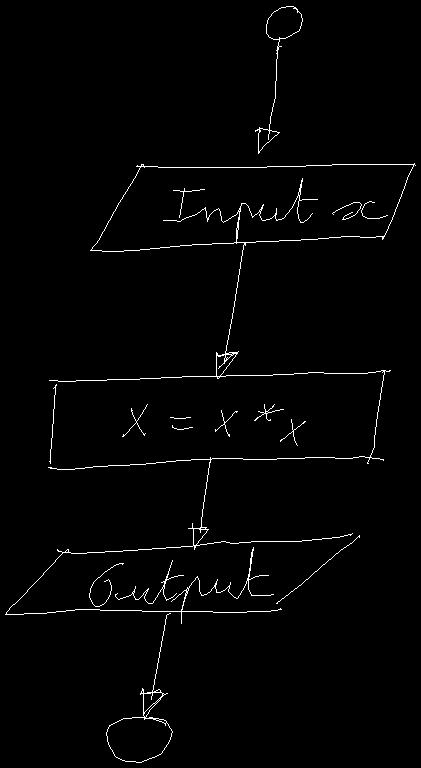arrow: (216, 242, 245, 378), (140, 613, 170, 719), (255, 37, 281, 153), (188, 457, 210, 549)
connection: (106, 717, 172, 762), (266, 6, 302, 39)
data: (5, 533, 359, 614), (90, 163, 415, 251)
process: (48, 370, 390, 469)
text: (163, 178, 387, 243), (89, 547, 273, 623), (122, 404, 305, 445)
